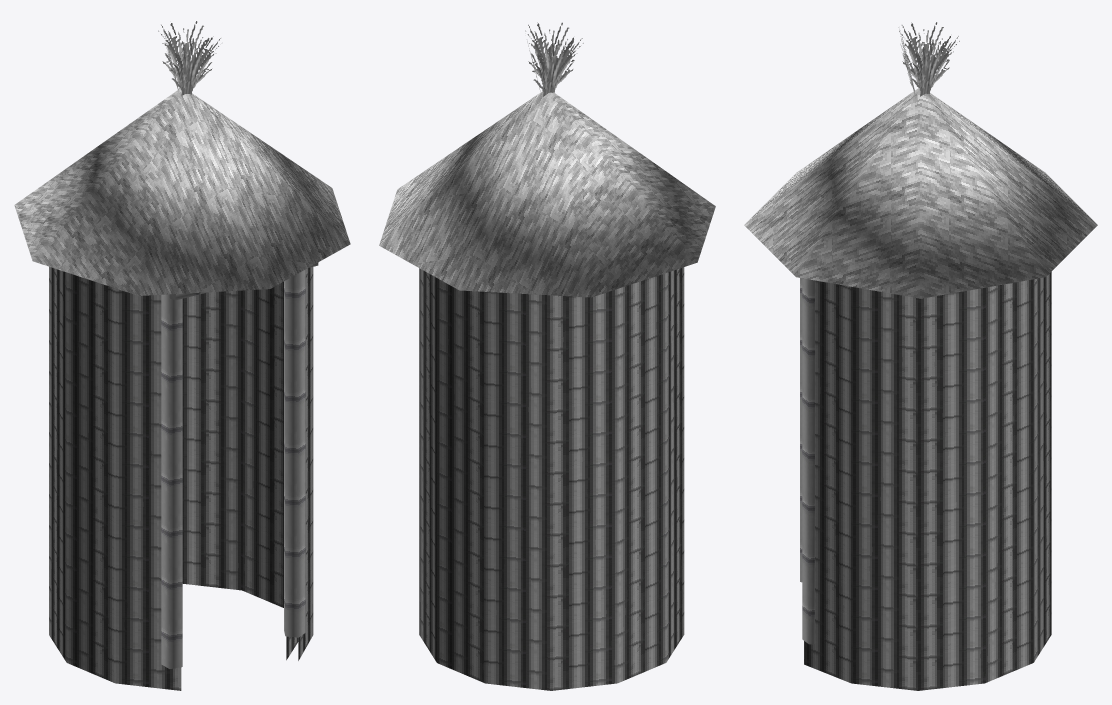
Rendered from bamboohut02.obj.
3 renders of one model, left to right at view 1: azimuth 30°, elevation 25°; view 2: azimuth 150°, elevation 25°; view 3: azimuth 270°, elevation 25°, orthographic.
Parts seen in each view (by area): view 1: Cylinder02, Cylinder05, Duplicate01, Duplicate02, Cylinder03, Box01, Duplicate05; view 2: Cylinder02, Cylinder05, Duplicate04, Box01; view 3: Cylinder02, Cylinder05, Cylinder03, Duplicate05, Duplicate04, Duplicate02.
Part boxes in pixels (bbox=[...]): Cylinder02: bbox=[49, 266, 313, 690]; Cylinder05: bbox=[14, 88, 350, 295]; Duplicate01: bbox=[182, 281, 298, 660]; Duplicate02: bbox=[161, 294, 182, 668]; Cylinder03: bbox=[284, 269, 305, 637]; Box01: bbox=[170, 36, 220, 95]; Duplicate05: bbox=[158, 21, 210, 88]; Cylinder02: bbox=[419, 267, 684, 690]; Cylinder05: bbox=[379, 91, 715, 297]; Duplicate04: bbox=[532, 37, 583, 97]; Box01: bbox=[525, 22, 575, 92]; Cylinder02: bbox=[804, 272, 1051, 690]; Cylinder05: bbox=[744, 88, 1097, 298]; Cylinder03: bbox=[802, 278, 814, 644]; Duplicate05: bbox=[910, 36, 959, 96]; Duplicate04: bbox=[899, 22, 949, 85]; Duplicate02: bbox=[800, 278, 802, 582].
Bounding box in the file's own units: 63.13 × 122 × 64.13.
